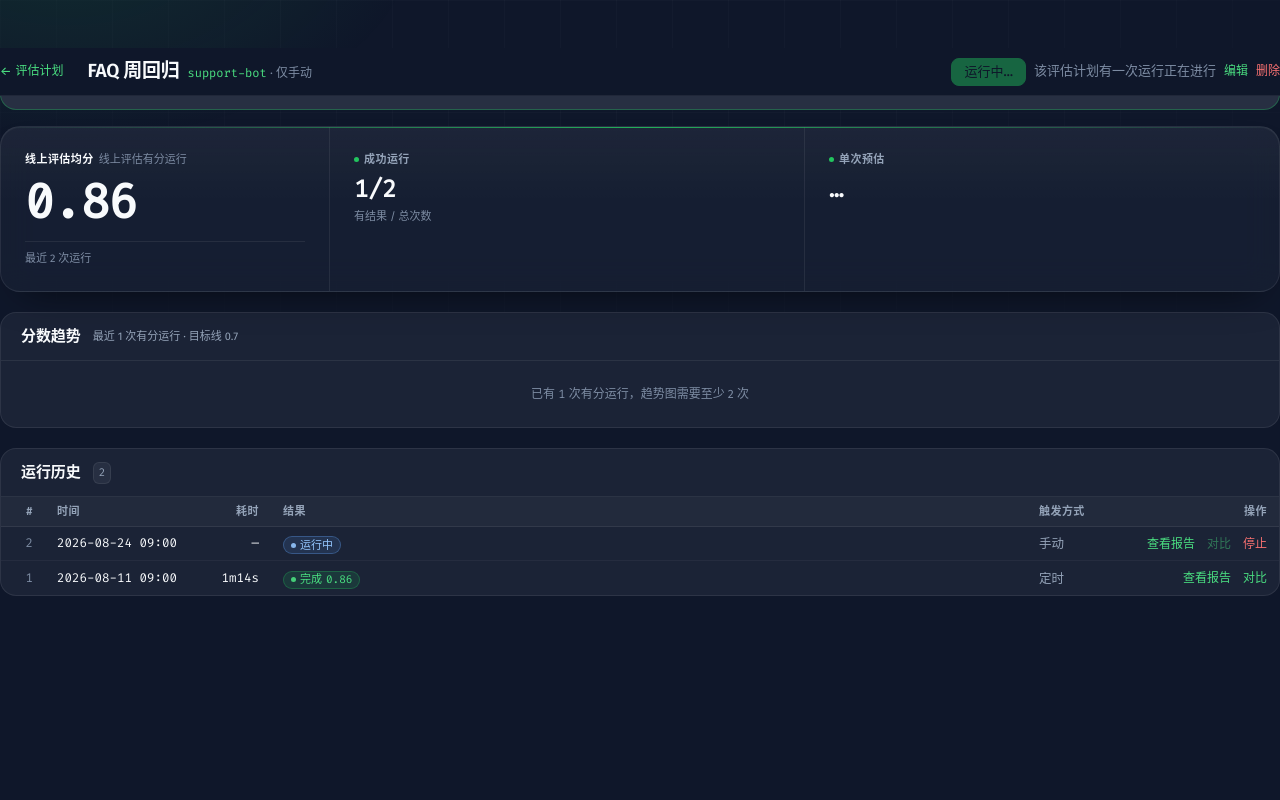
Scenario: 停止的二次确认 › 点停止只开卡：默认焦点在取消，取消不发 stop_plan_run
expect the table with test id "plan-runs-table" is shown: met, box [1,498,1279,596]
Click the button "停止": [1255, 544] box [1243,536,1267,552]
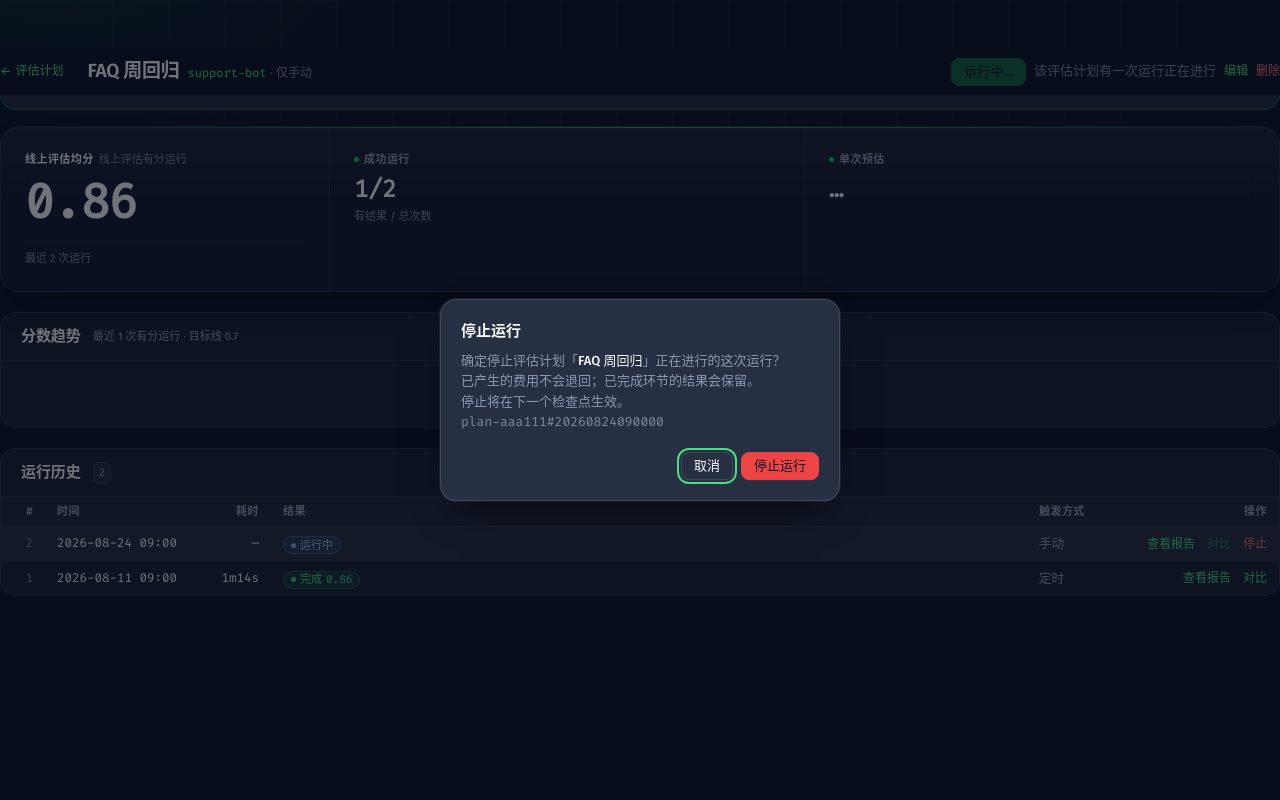
Click the button with test id "confirm-card-cancel": [707, 466] box [681,452,733,480]
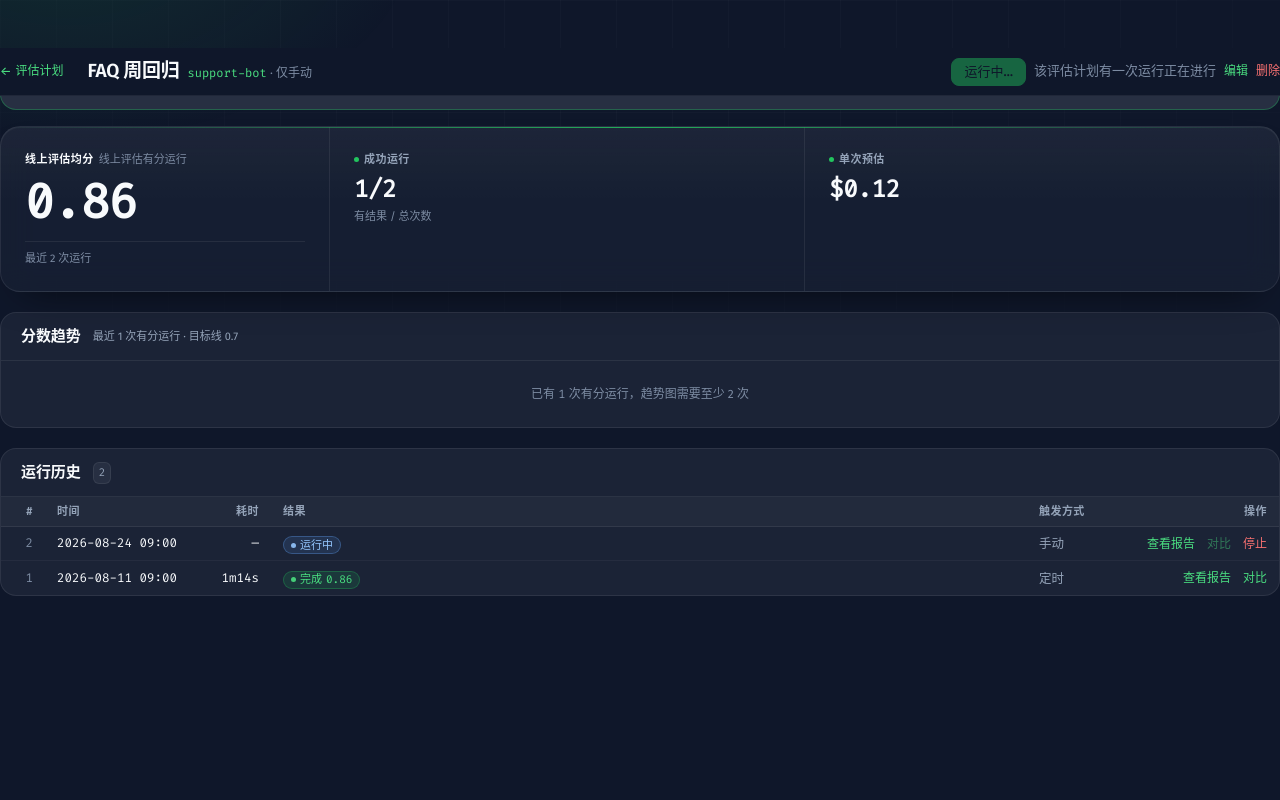
expect the dialog with test id "confirm-card" is gone: met
